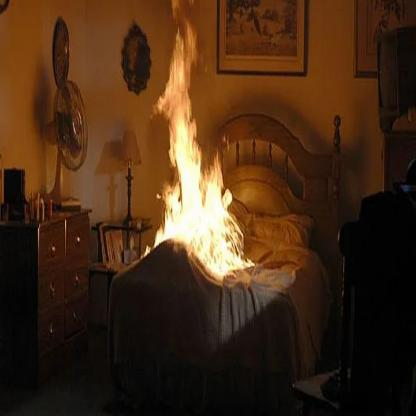fire: (141, 12, 265, 294)
